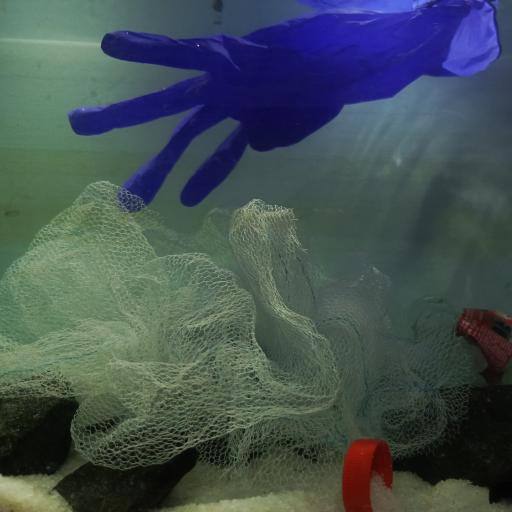bottle_cap: (342, 438, 393, 512)
glove: (67, 0, 502, 218)
net: (0, 179, 472, 483)
plastic_bottle: (410, 292, 512, 379)
